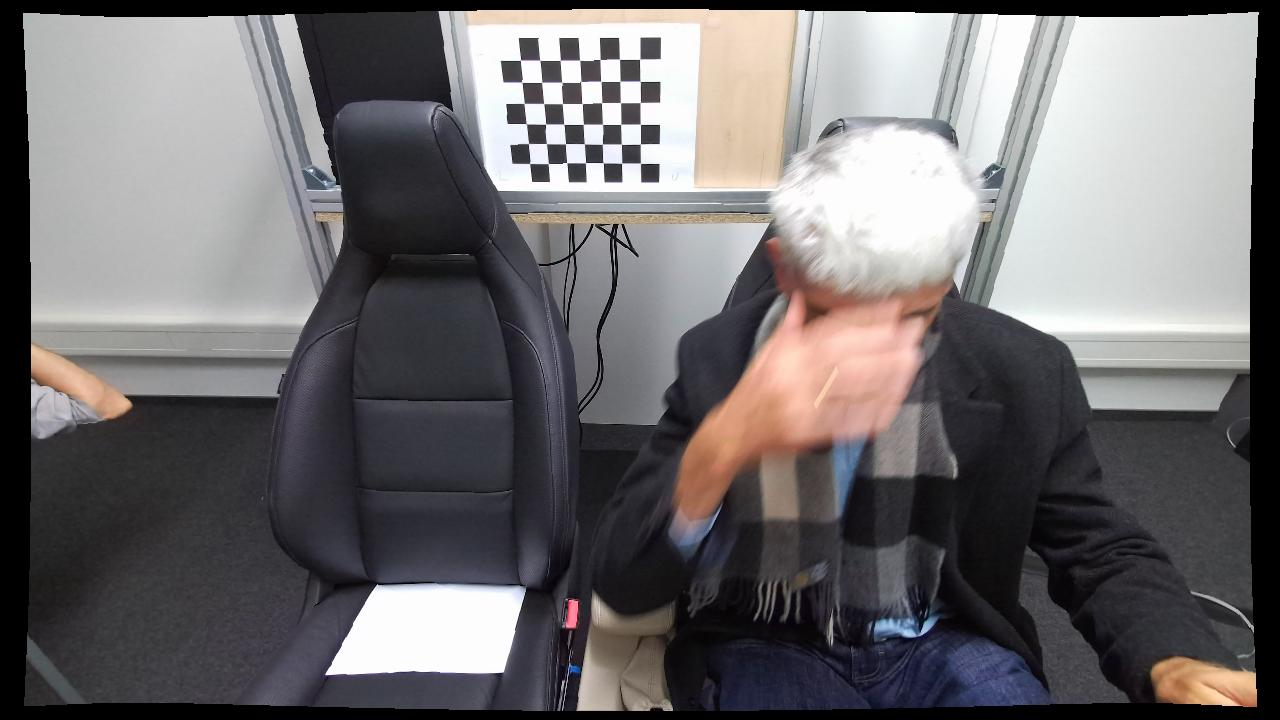Distracted: (580, 127, 1133, 710)
